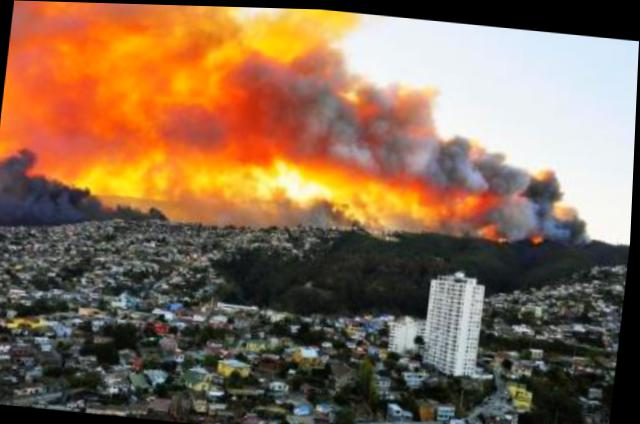fire: (0, 0, 244, 171), (76, 141, 447, 224), (240, 6, 358, 65), (449, 185, 490, 216)
